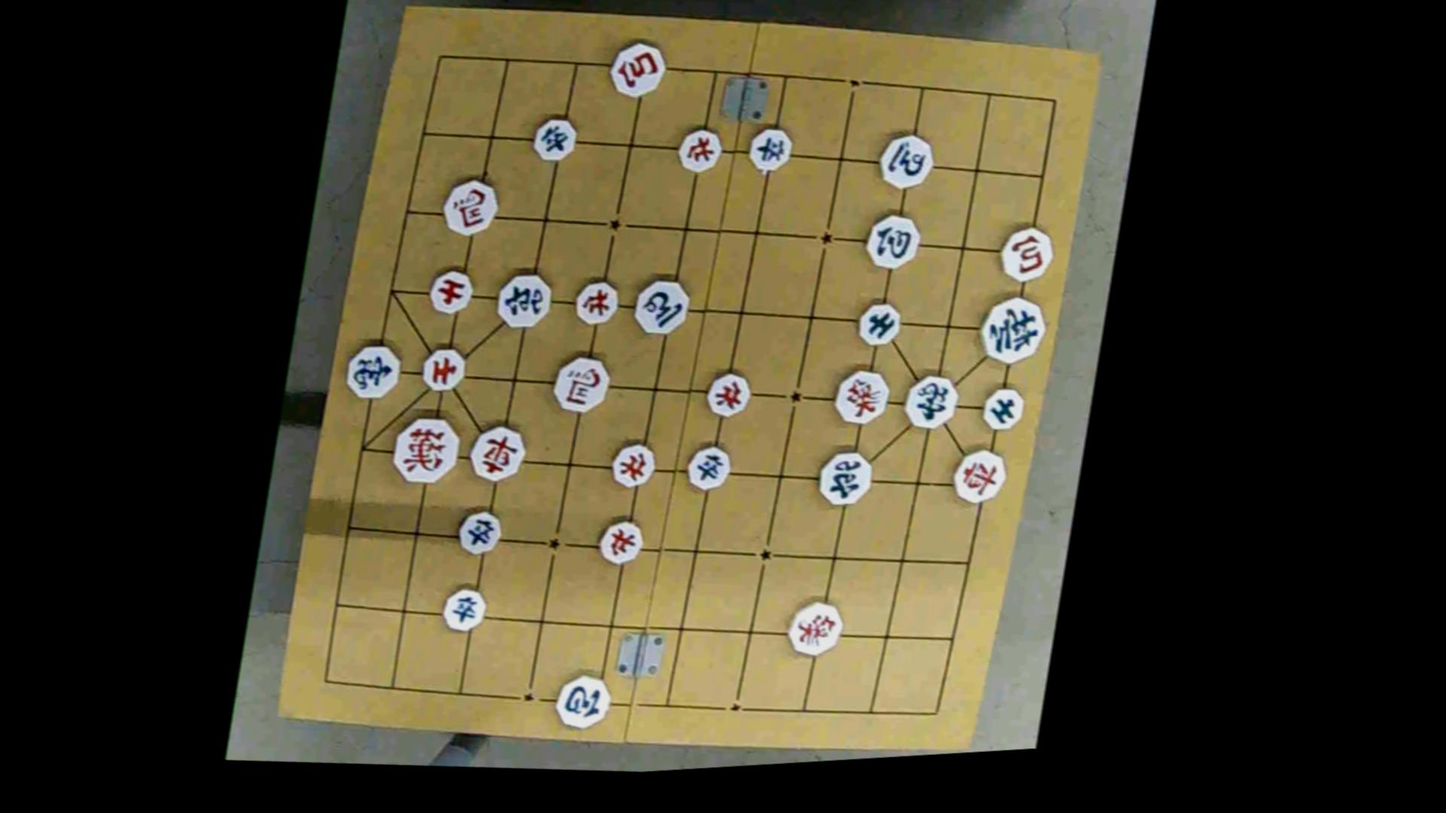cha_green: (815, 443, 877, 508), (493, 269, 555, 331)
cha_red: (950, 443, 1008, 506), (469, 422, 526, 485)
jol_green: (681, 440, 737, 491), (438, 582, 490, 636), (454, 504, 505, 559), (747, 121, 794, 174), (535, 110, 580, 162)
jol_red: (593, 514, 647, 570), (606, 436, 659, 492), (673, 122, 725, 176), (572, 274, 620, 328), (704, 367, 751, 419)
ma_green: (631, 273, 692, 341), (877, 126, 935, 188)
ma_red: (551, 352, 612, 416), (441, 173, 500, 238)
po_green: (863, 206, 921, 270), (555, 668, 613, 730)
po_red: (999, 220, 1057, 285), (608, 38, 665, 102)
sa_green: (853, 294, 905, 349), (977, 380, 1029, 435)
sa_red: (417, 340, 466, 395), (426, 265, 474, 315)
sang_green: (346, 340, 405, 403), (904, 368, 960, 431)
sang_red: (829, 364, 892, 429), (787, 595, 844, 659)
wang_green: (975, 291, 1047, 368)
wang_red: (386, 410, 462, 490)
